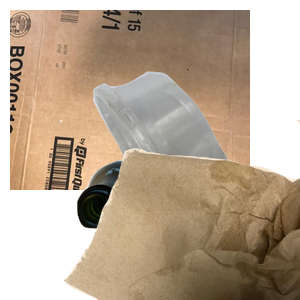cardboard: (10, 10, 250, 190)
glass: (74, 158, 223, 300)
plastic: (91, 69, 300, 249)
trash: (60, 120, 300, 300)
